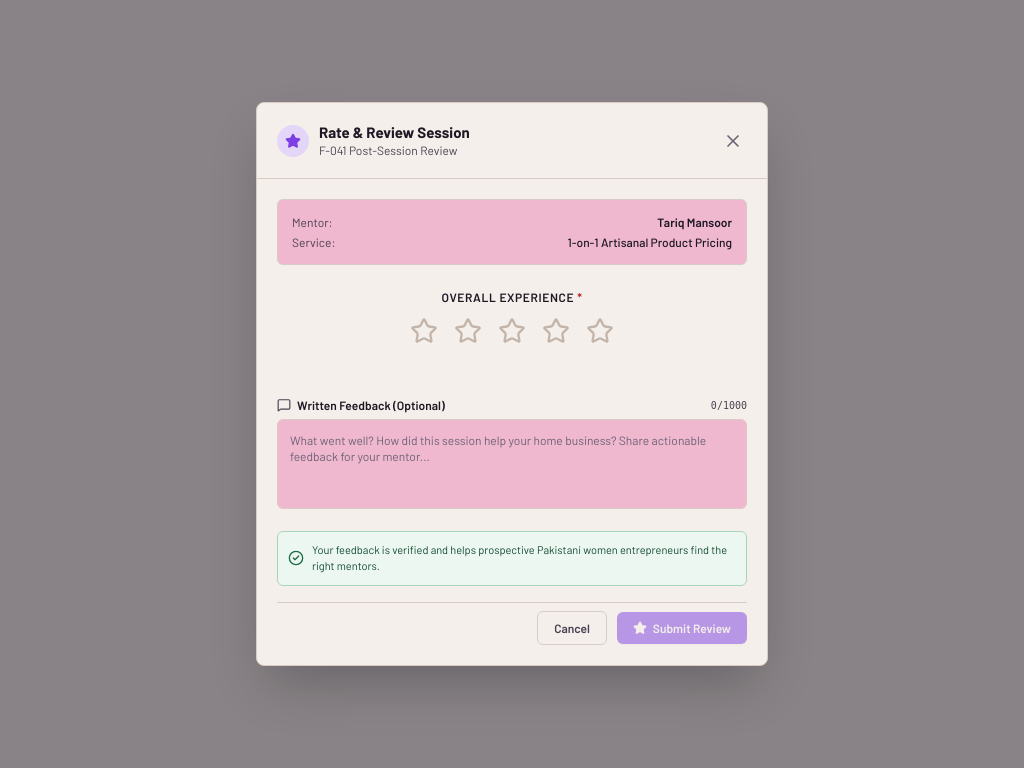
Test: ReviewModal (Task 46 / F-041) › handles submission error gracefully
Click the button named "3 stars" at (512, 331), box [494, 313, 530, 349]
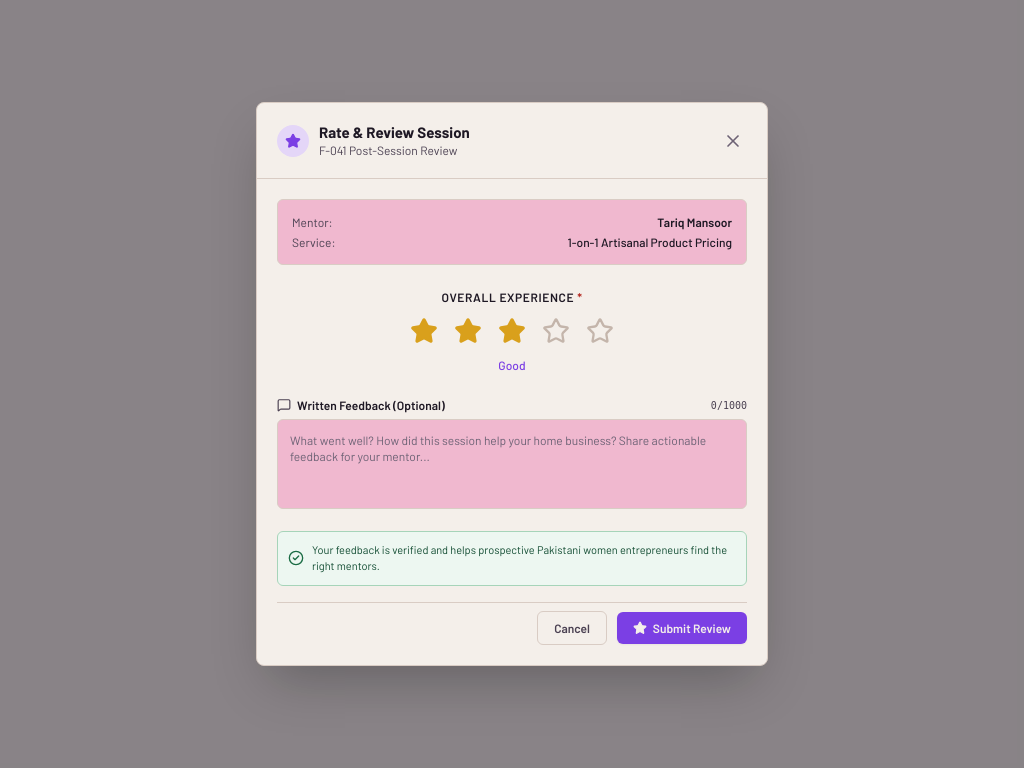
Click the button "Submit Review" at (682, 628), box [617, 612, 747, 644]
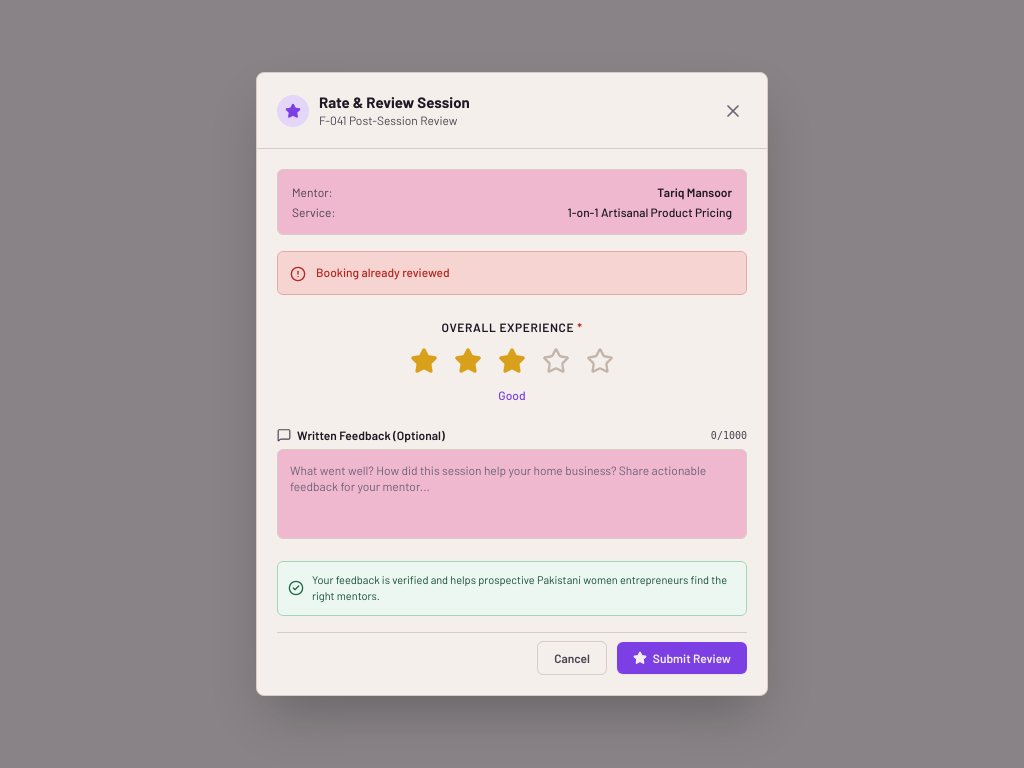
Expected: the text "Booking already reviewed" is shown, [316, 264, 450, 280]
